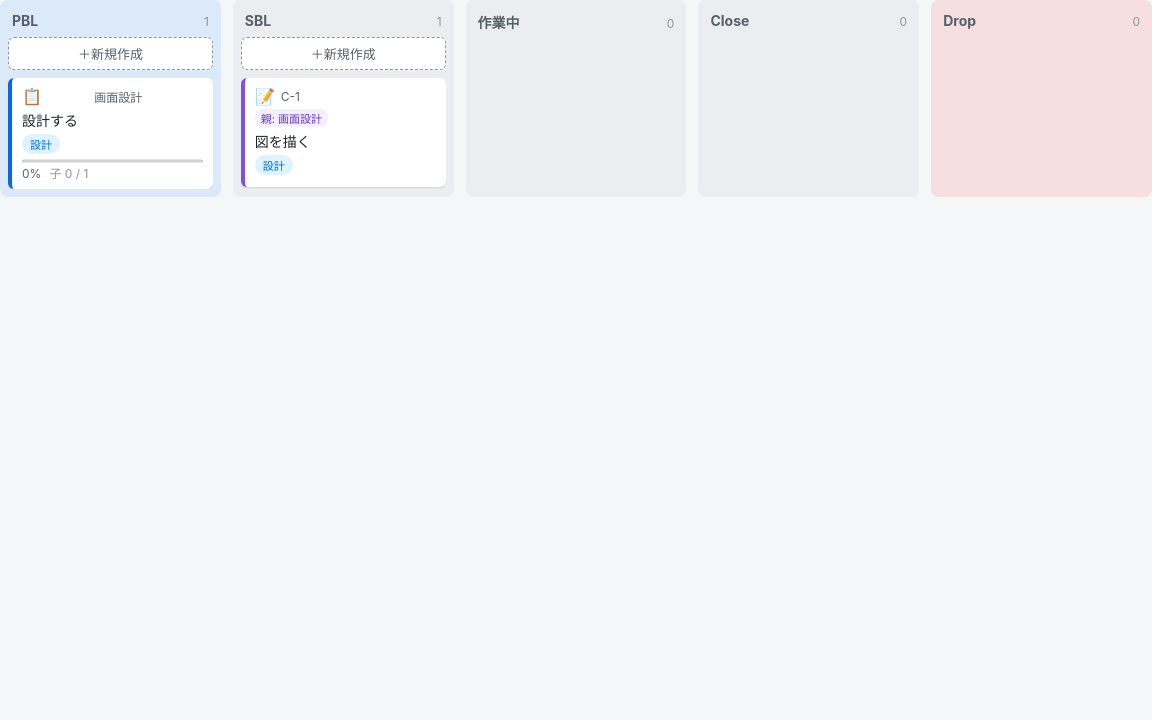
Test: BoardView › 親を持つ子の詳細ビューには親のタイトルと引き継いだラベルが表示される
Double-click the text "図を描く" at (283, 142), box [255, 133, 311, 150]
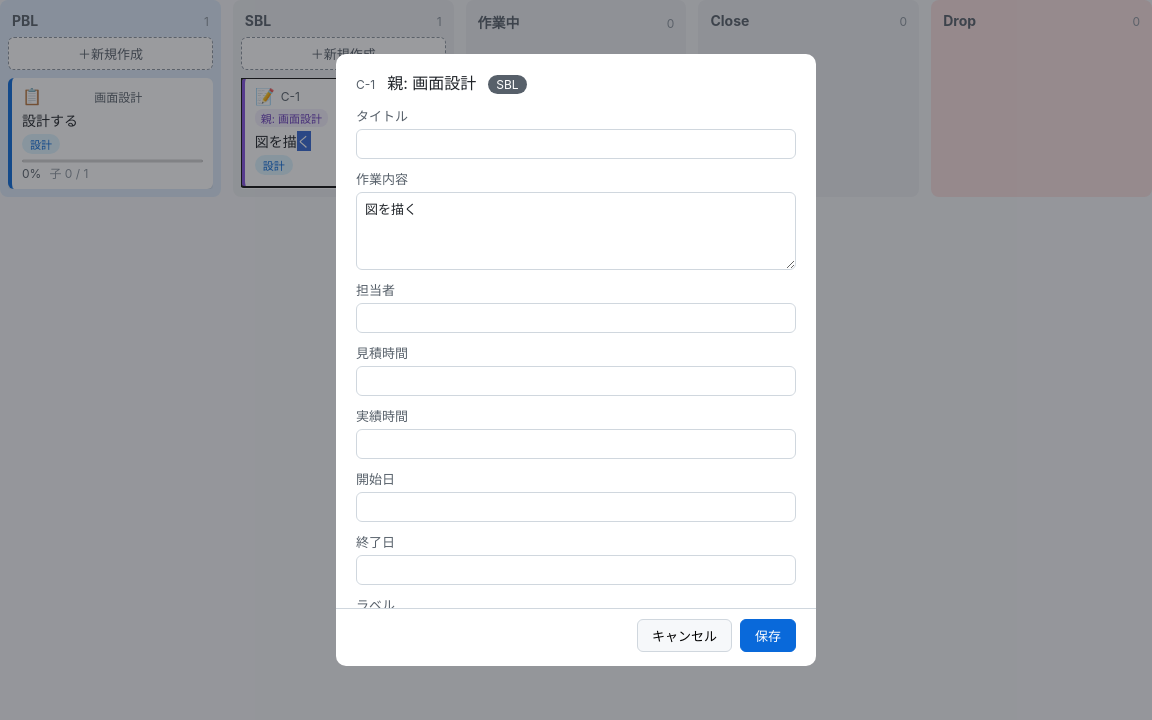
Now the text "親: 画面設計" is shown, box [387, 70, 476, 94]
